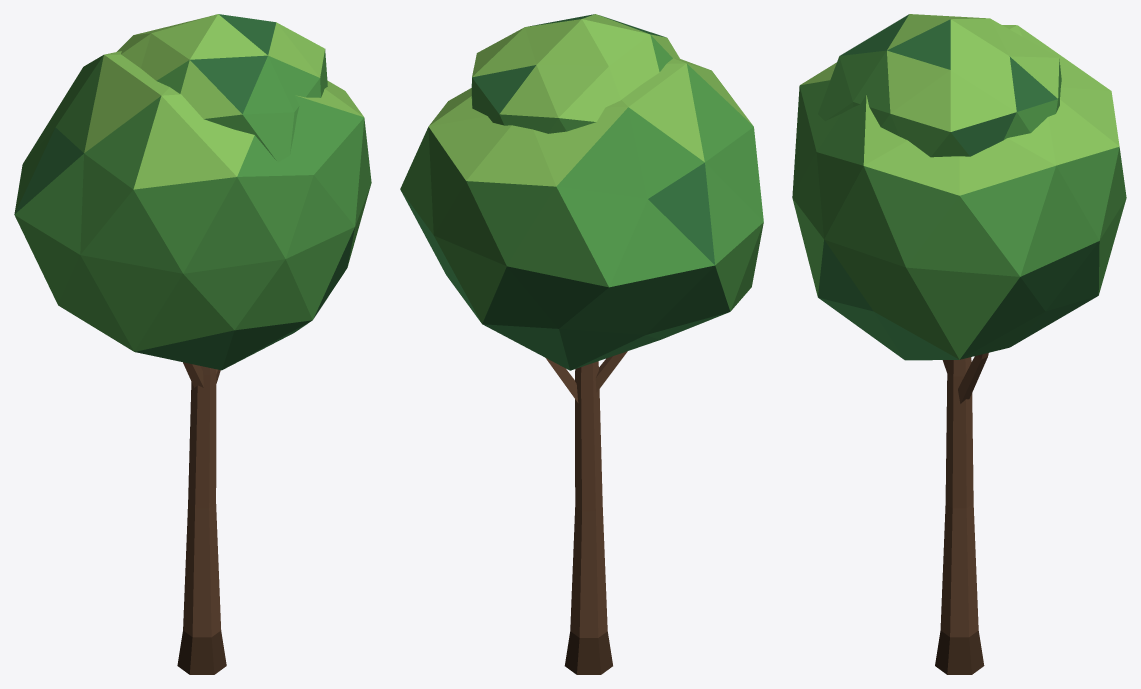
Rendered from tree_round.glb.
The picture shows the model from 3 angles, left to right: view 1: azimuth 30°, elevation 25°; view 2: azimuth 150°, elevation 25°; view 3: azimuth 270°, elevation 25°; orthographic projection.
Visible parts, largest first — view 1: tree_round__mesh; view 2: tree_round__mesh; view 3: tree_round__mesh.
Part boxes in pixels (x1,y1,x2,y2): tree_round__mesh: (14, 14, 371, 674); tree_round__mesh: (400, 14, 763, 674); tree_round__mesh: (792, 14, 1126, 674).
Size of the model in its own units: 3.23 by 6.29 by 2.92.
Materials: 2 (2 with a texture image).
